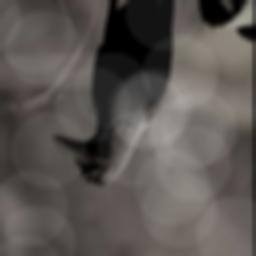Crow: (52, 0, 175, 188)
